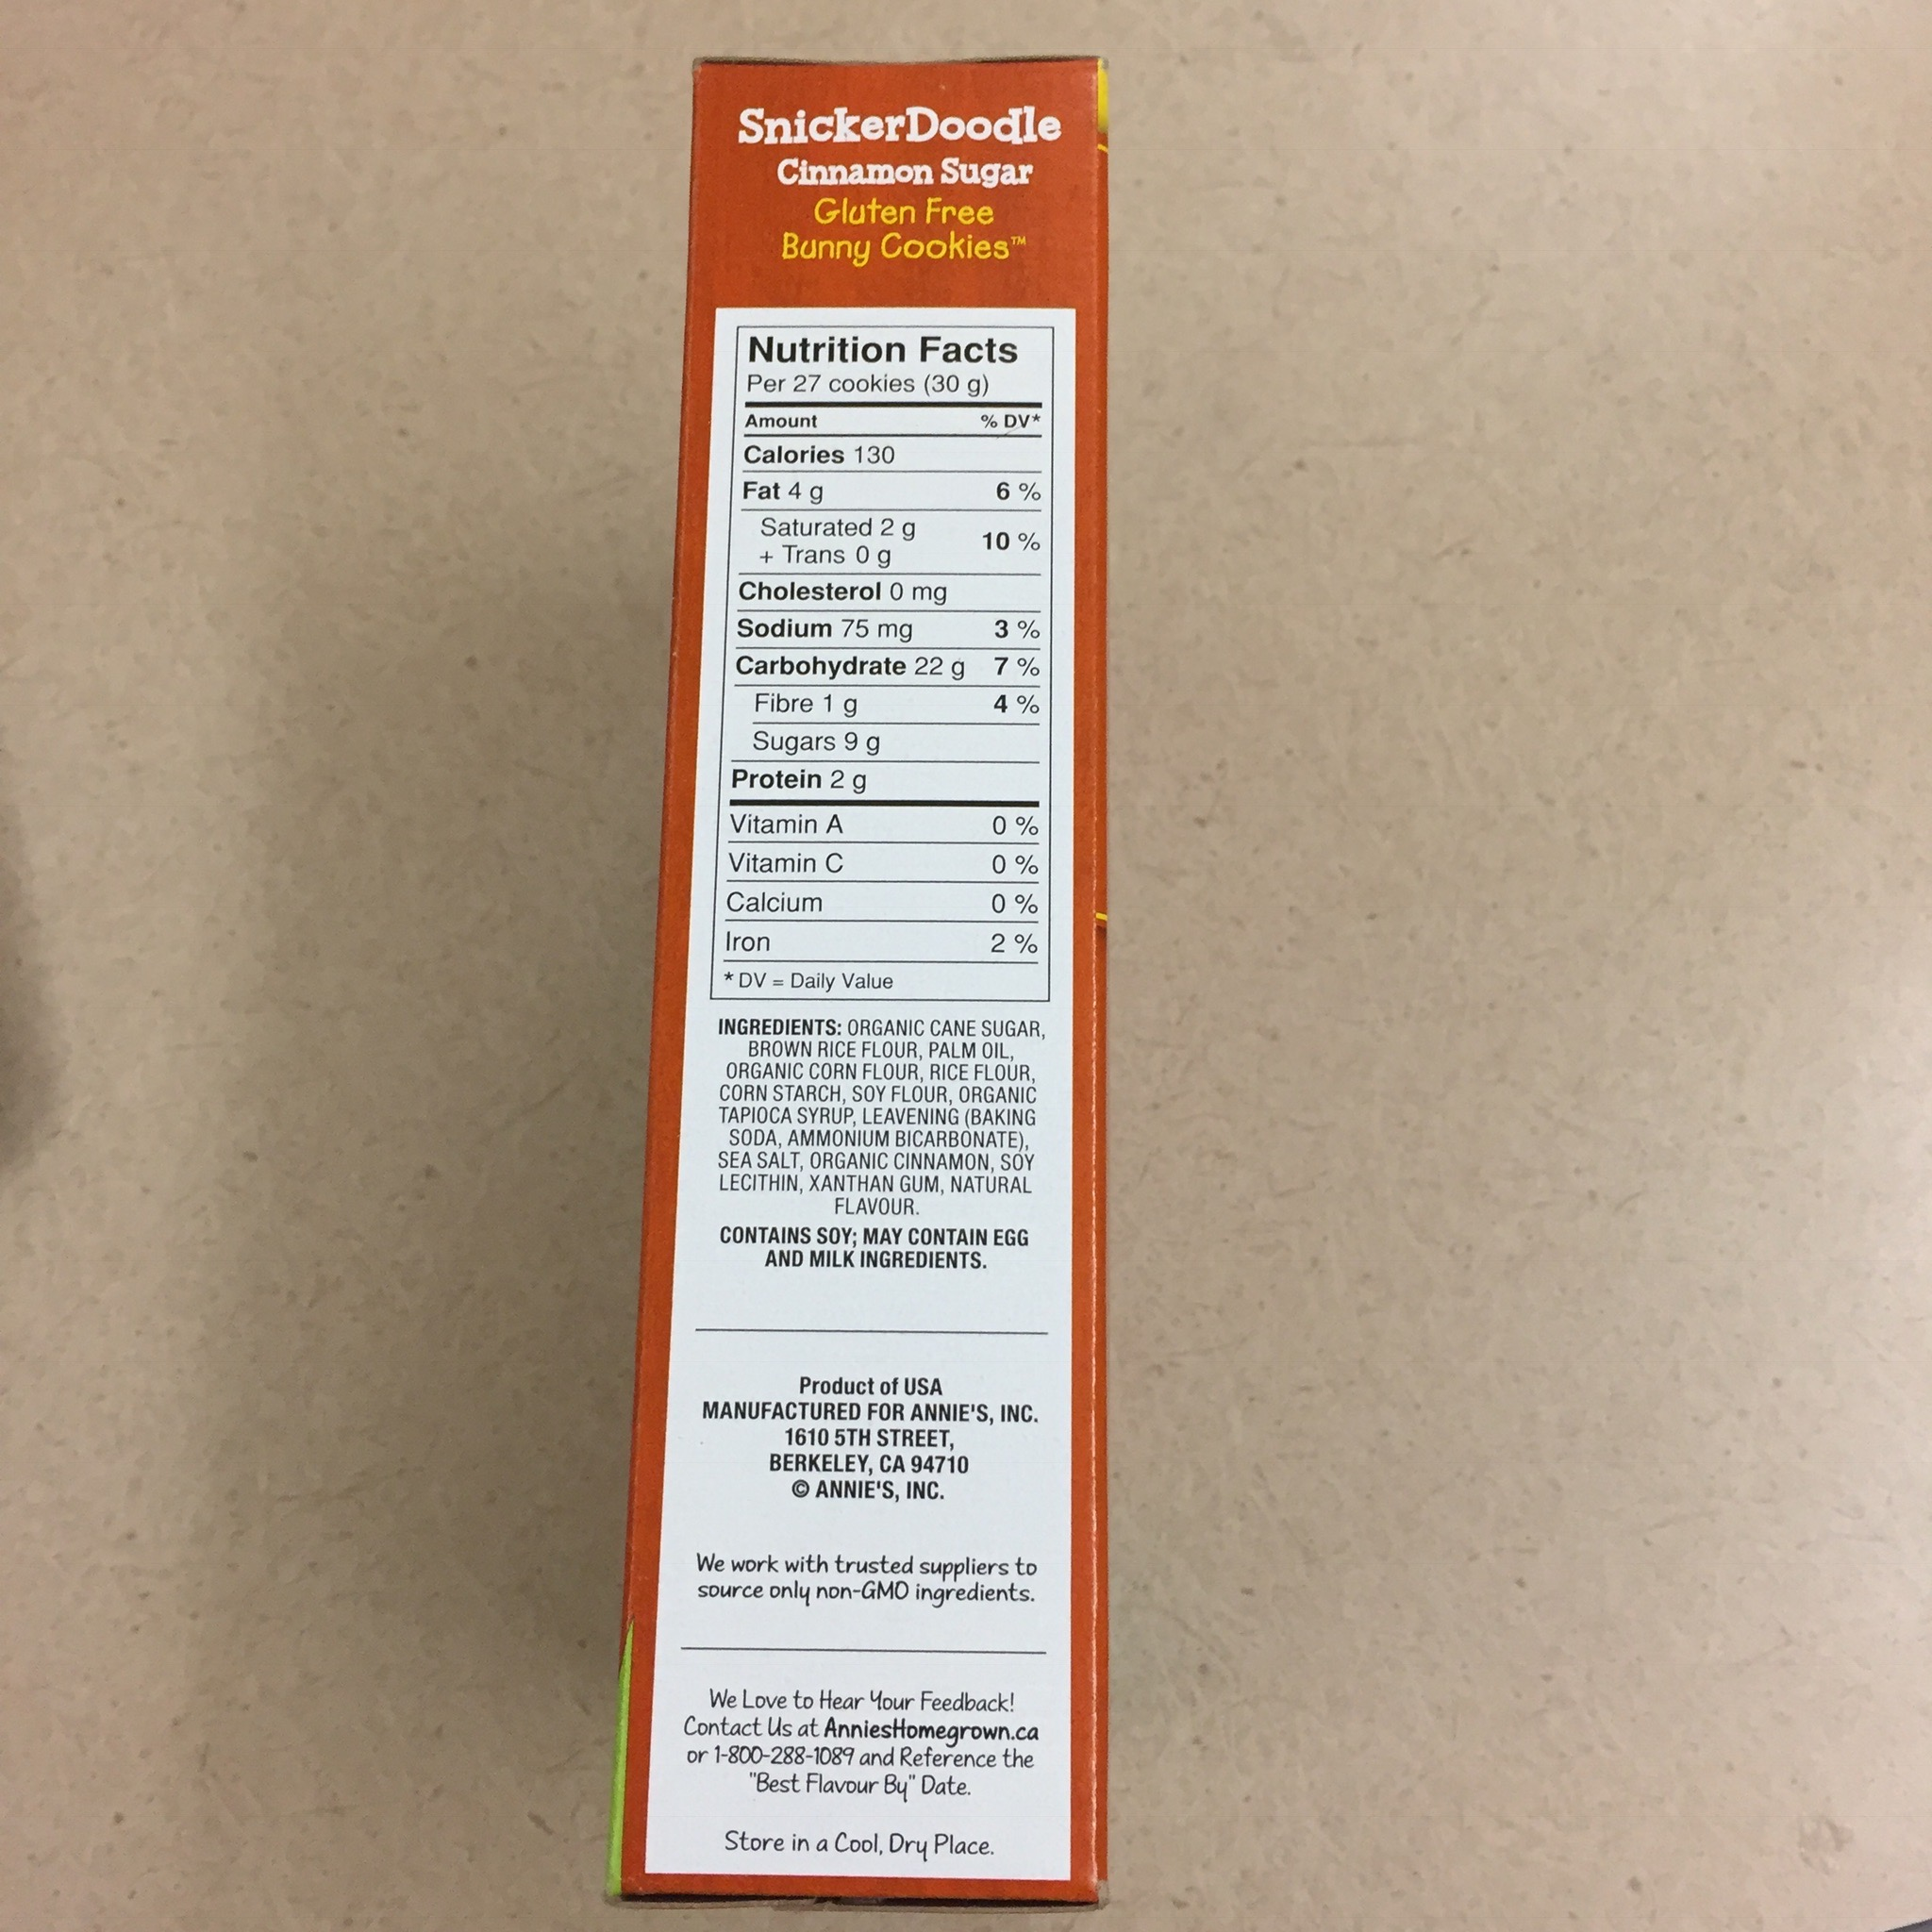annies_snickerdoodle_cinnamon_sugar: (600, 51, 1115, 1913)
